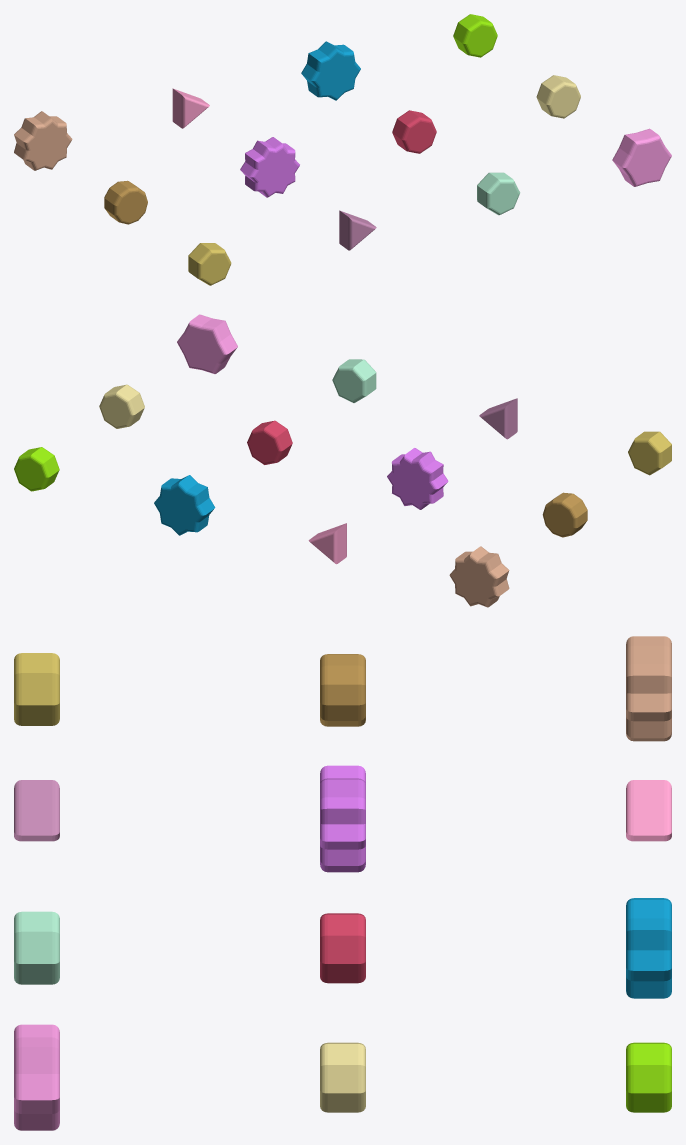
Rendered from LineMats_Linear_2023-07-23-20-47-43.gltf.
3 views of the same model, one above another, from view 1: azimuth 30°, elevation 25°; view 2: azimuth 150°, elevation 25°; view 3: azimuth 270°, elevation 25° (orthographic). The views are drawn at different scales.
Size of the model in its own units: 668 by 69.86 by 430.
